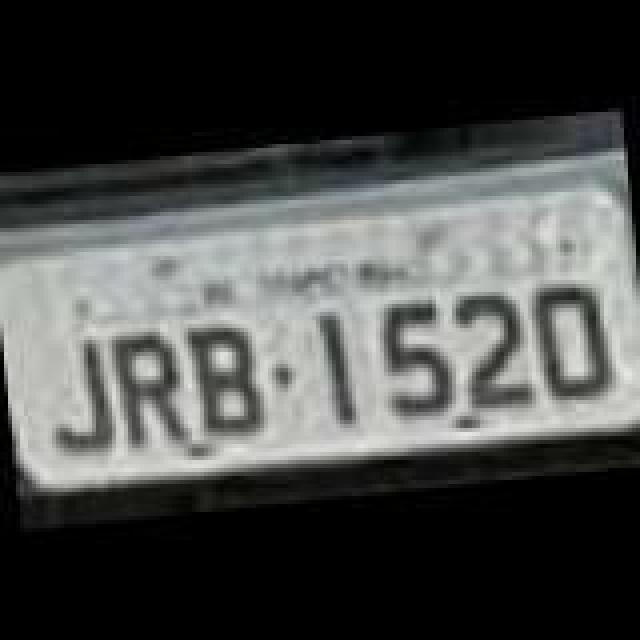1: (310, 300, 362, 428)
2: (456, 280, 536, 408)
5: (378, 296, 454, 424)
B: (190, 318, 274, 442)
J: (44, 330, 116, 454)
O: (538, 280, 614, 408)
R: (110, 328, 194, 456)
